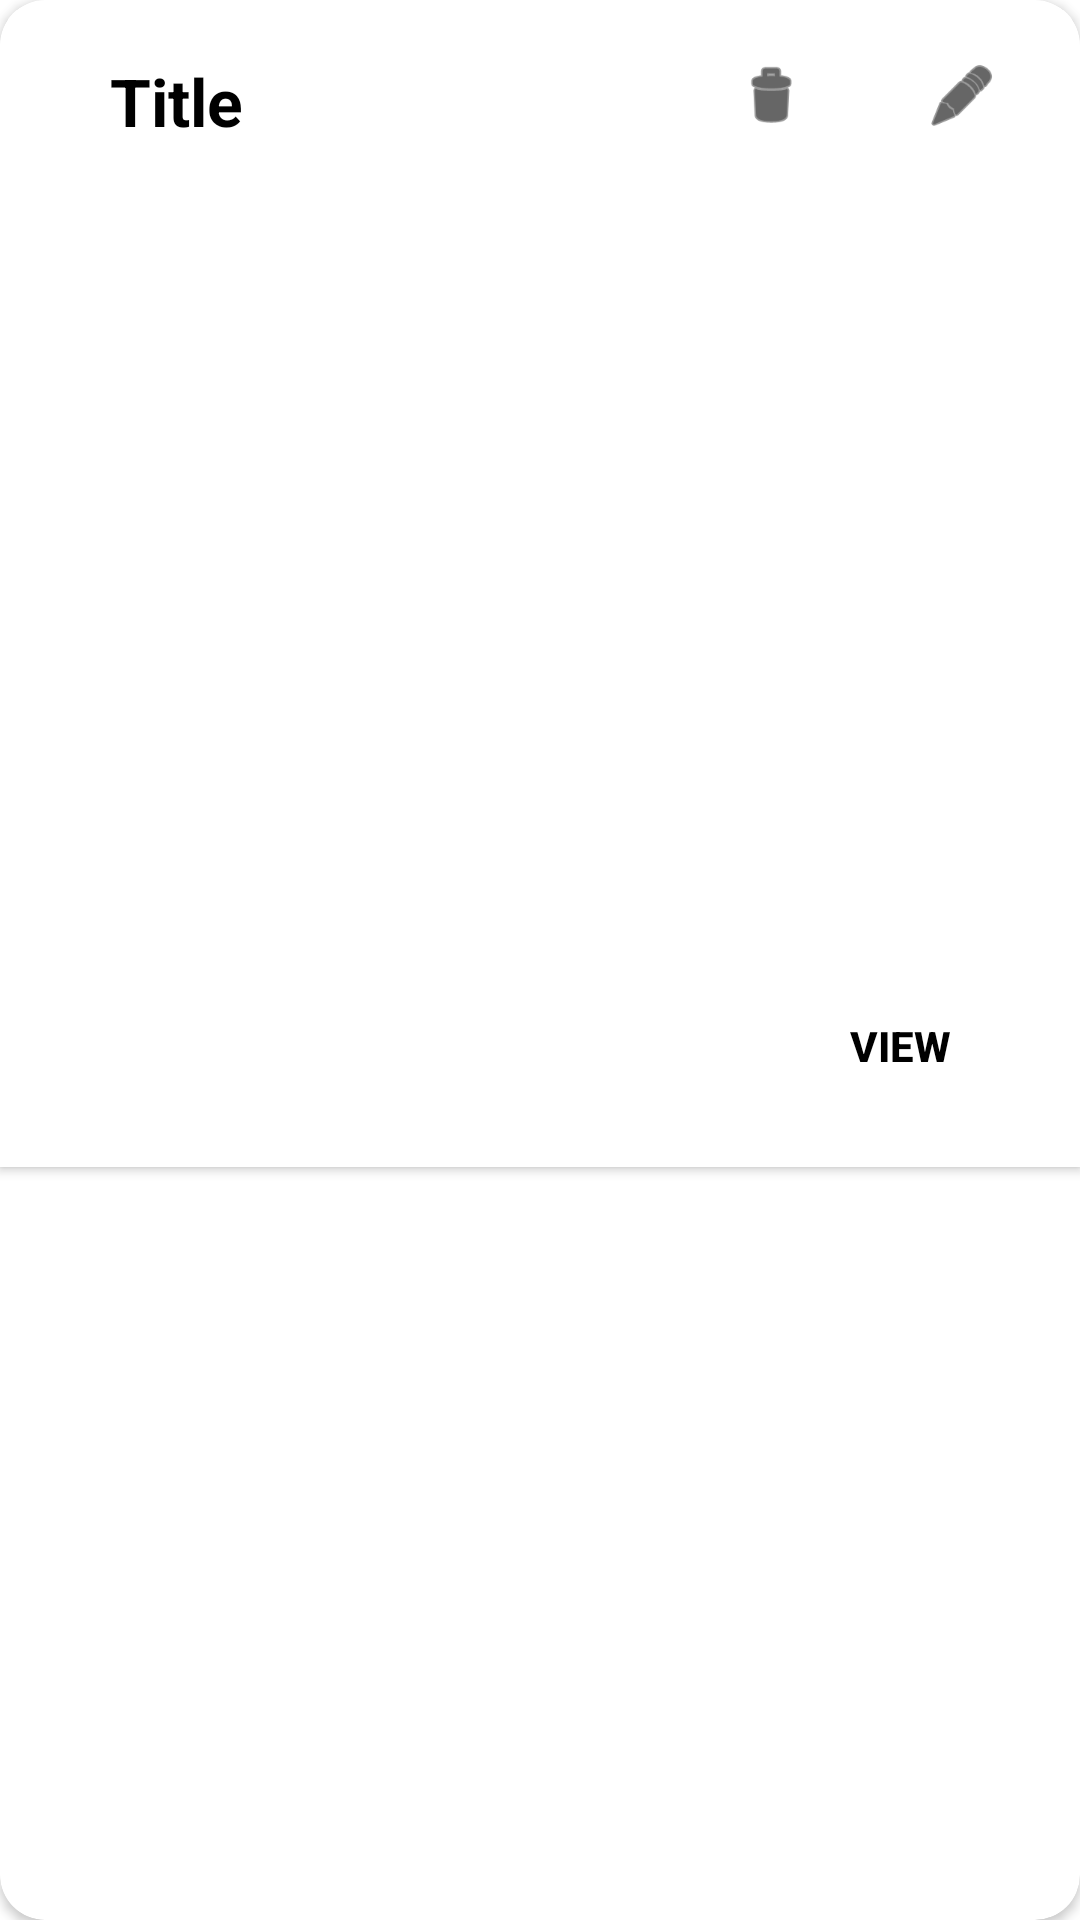

Where to tap for icons on this 1080 x 1920 app screen, as [x,y]:
delete recipe: [771,95]
edit recipe: [961,95]
